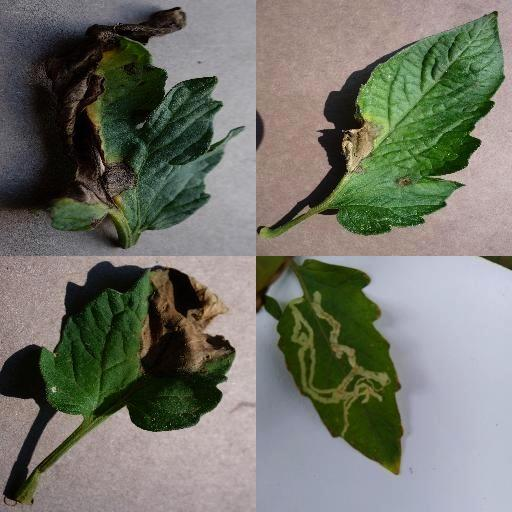Early Blight: (41, 31, 247, 235)
Late Blight: (338, 10, 506, 234), (40, 265, 238, 433)
Leaf Miner: (277, 258, 405, 477)
